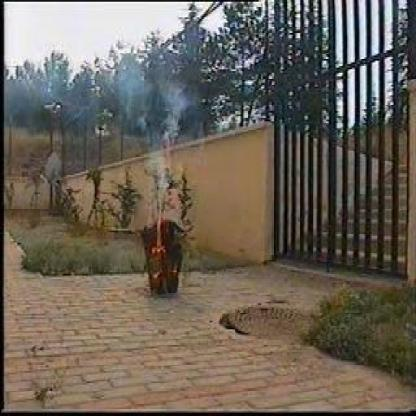-: (112, 60, 188, 124)
